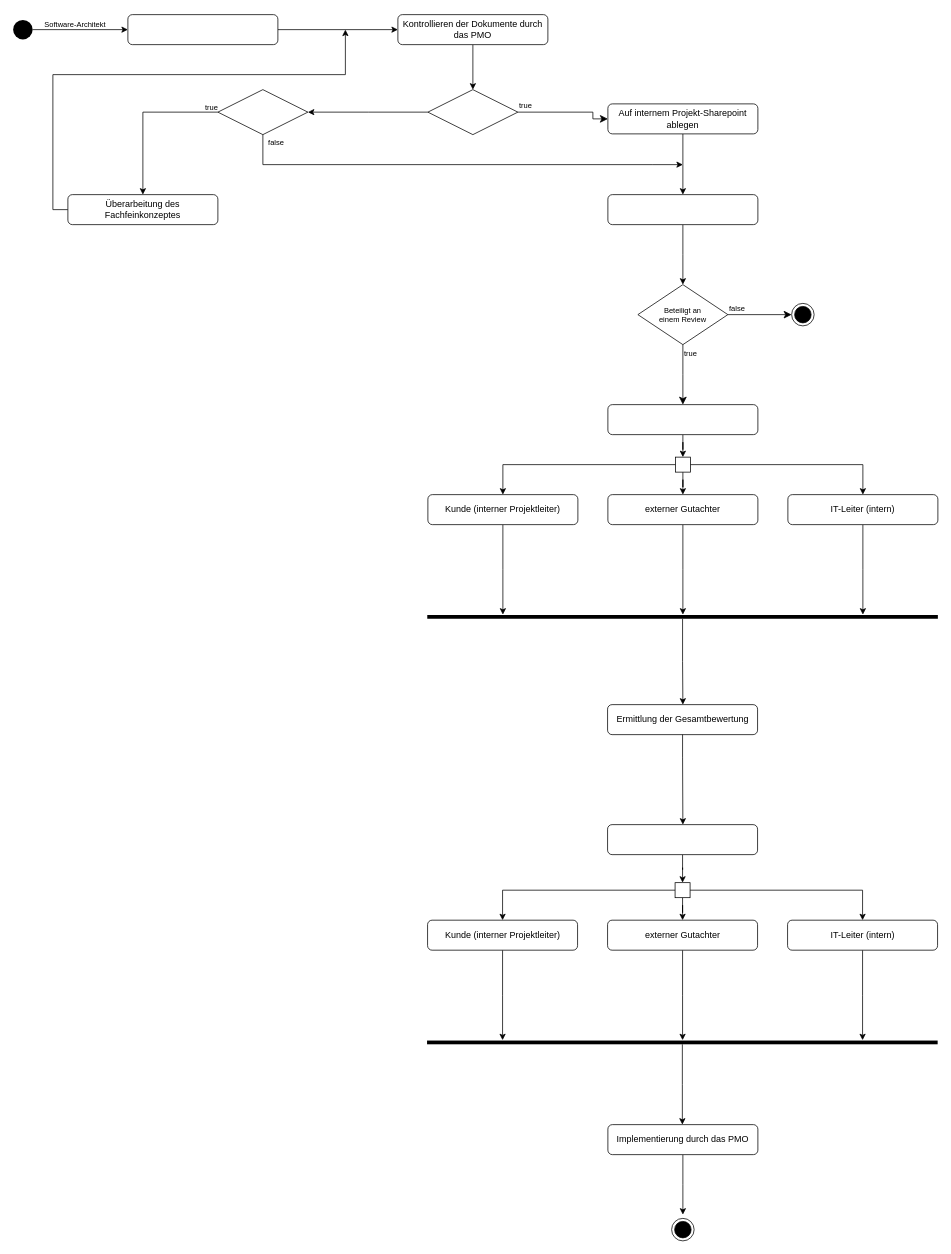
Some shapes in this 951 by 1254 pixel diagram are drawn without their labels. Here are the shapes that lost their labels. From the top down, the centre of each, then its label:
[202,29]: Erstellung Fachfeinkonzept
[262,112]: Kritischer Fehler
[472,112]: Dokumente korrekt
[682,209]: Auflistung der Stakeholder
[682,419]: Benachrichtigung der Stakeholder
[682,839]: Unterschreiben des "Letter of Acceptance"
